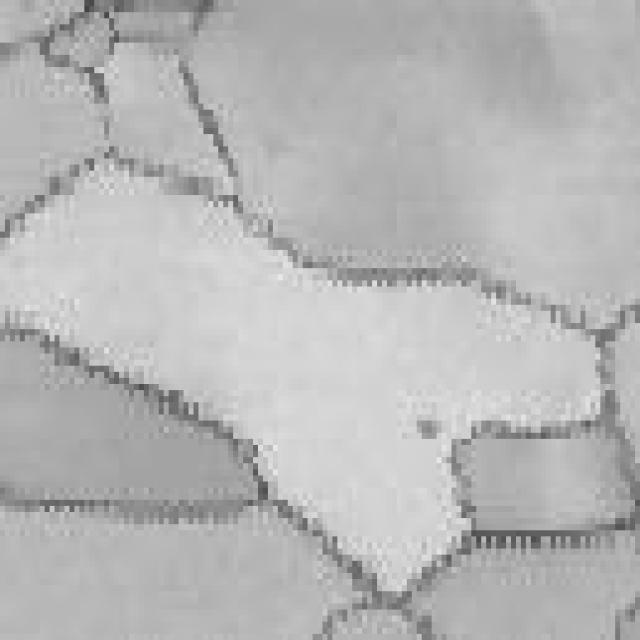good_void: (416, 411, 446, 443)
